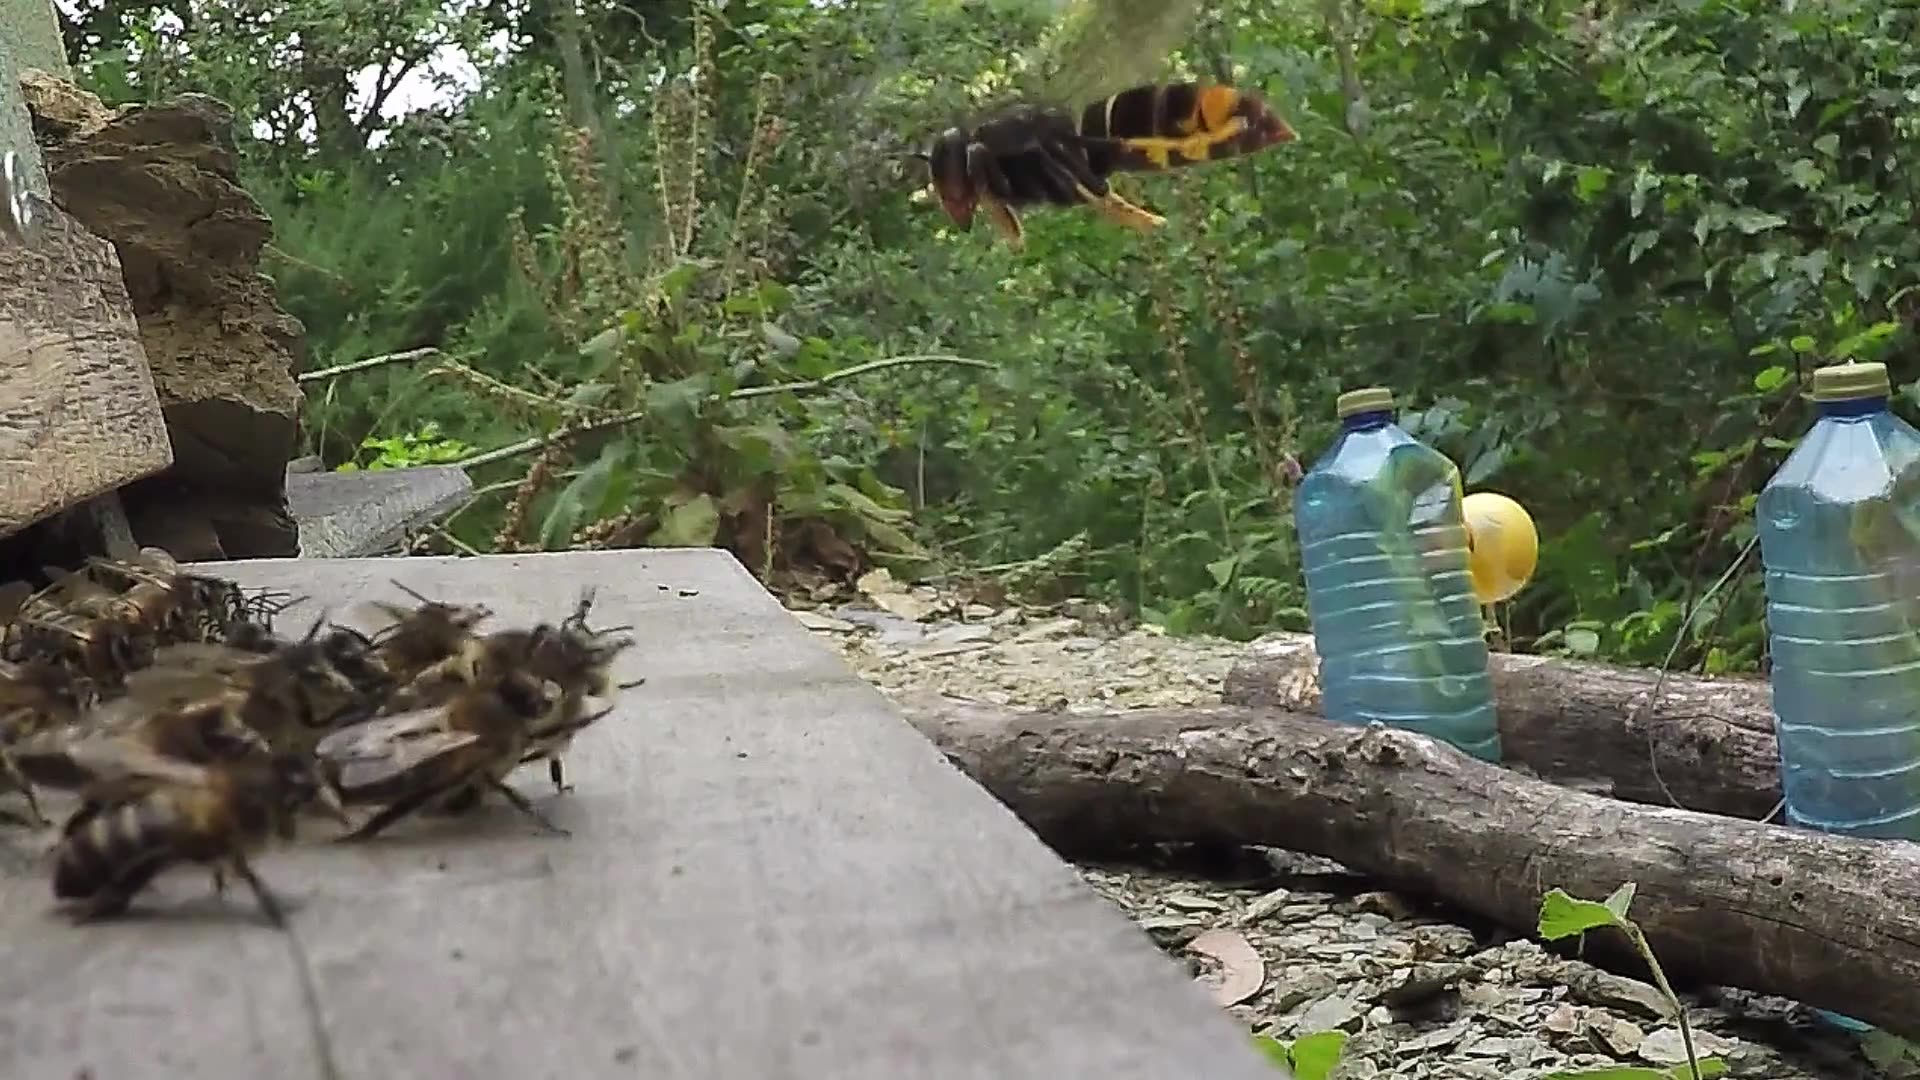bee: (289, 572, 649, 841), (5, 669, 353, 922), (4, 553, 280, 667)
hornet: (909, 63, 1309, 249)
